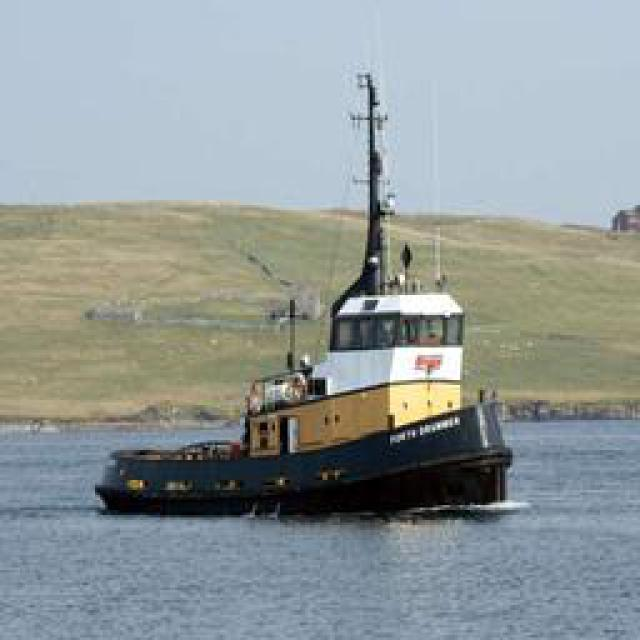Ship: (105, 39, 505, 522)
